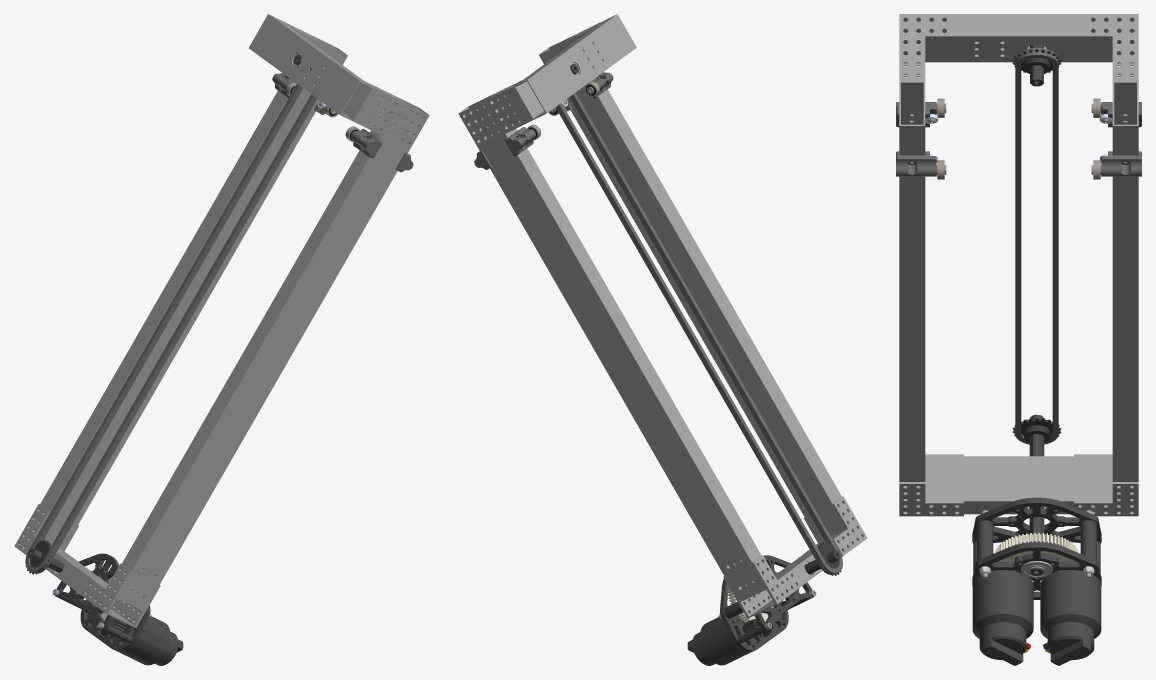
The picture shows the model from 3 angles, left to right: view 1: azimuth 30°, elevation 25°; view 2: azimuth 150°, elevation 25°; view 3: azimuth 270°, elevation 25°; orthographic projection. The views are drawn at different scales.
Parts seen in each view (by area): view 1: Tube 2"x1"x29" (×2), 246 links #25 chain, Tube 2"x1"x9.25" (×2), Falcon 500 Motor (217-6515), Tube 2"x1"x2", WCP-0234-002 Rev1, Part 25, WCP-0234-001 Rev1, Part 24; view 2: Tube 2"x1"x29" (×2), 246 links #25 chain, Tube 2"x1"x9.25" (×2), Falcon 500 Motor (217-6515), Tube 2"x1"x2", WCP-0234-001 Rev1, Part 24, Part 25, WCP-0234-002 Rev1; view 3: Tube 2"x1"x29" (×2), Tube 2"x1"x9.25" (×2), Falcon 500 Motor (217-6515) (×2), 246 links #25 chain, WCP-0234-002 Rev1, WCP-0234-001 Rev1, Tube 2"x1"x2" (×2), WCP-0323-001 Rev2 (×2), Part 37, Part 36, 22t 1/2" Hex Bore Hub 25 Chain Sprocket (217-2640) (×2), Spur Gear (62T, 20DP, 1/2" Hex Bore) (+3 smaller).
Boxes of the visible parts, x1,y1,x2,y2 form: Tube 2"x1"x29" (×2): (29,35,429,610); 246 links #25 chain: (25,61,317,573); Tube 2"x1"x9.25" (×2): (19,14,373,627); Falcon 500 Motor (217-6515): (110,616,183,665); Tube 2"x1"x2": (354,81,401,135); WCP-0234-002 Rev1: (54,553,118,631); Part 25: (81,563,131,613); WCP-0234-001 Rev1: (80,599,150,651); Part 24: (14,504,49,554); Tube 2"x1"x29" (×2): (458,35,852,601); 246 links #25 chain: (555,93,842,574); Tube 2"x1"x9.25" (×2): (514,14,862,617); Falcon 500 Motor (217-6515): (687,615,759,665); Tube 2"x1"x2": (486,80,532,133); WCP-0234-001 Rev1: (720,579,788,651); Part 24: (752,555,801,604); Part 25: (832,496,867,556); WCP-0234-002 Rev1: (754,555,813,631); Tube 2"x1"x29" (×2): (899,81,1138,499); Tube 2"x1"x9.25" (×2): (899,14,1138,514); Falcon 500 Motor (217-6515) (×2): (972,570,1101,665); 246 links #25 chain: (1015,48,1058,444); WCP-0234-002 Rev1: (972,497,1101,543); WCP-0234-001 Rev1: (972,542,1101,599); Tube 2"x1"x2" (×2): (899,36,1138,81); WCP-0323-001 Rev2 (×2): (896,151,1141,176); Part 37: (899,482,963,516); Part 36: (1074,482,1138,516); 22t 1/2" Hex Bore Hub 25 Chain Sprocket (217-2640) (×2): (1012,49,1061,442); Spur Gear (62T, 20DP, 1/2" Hex Bore): (995,532,1078,580).
Size of the model in its own units: 0.5169 by 0.8143 by 0.2412.
